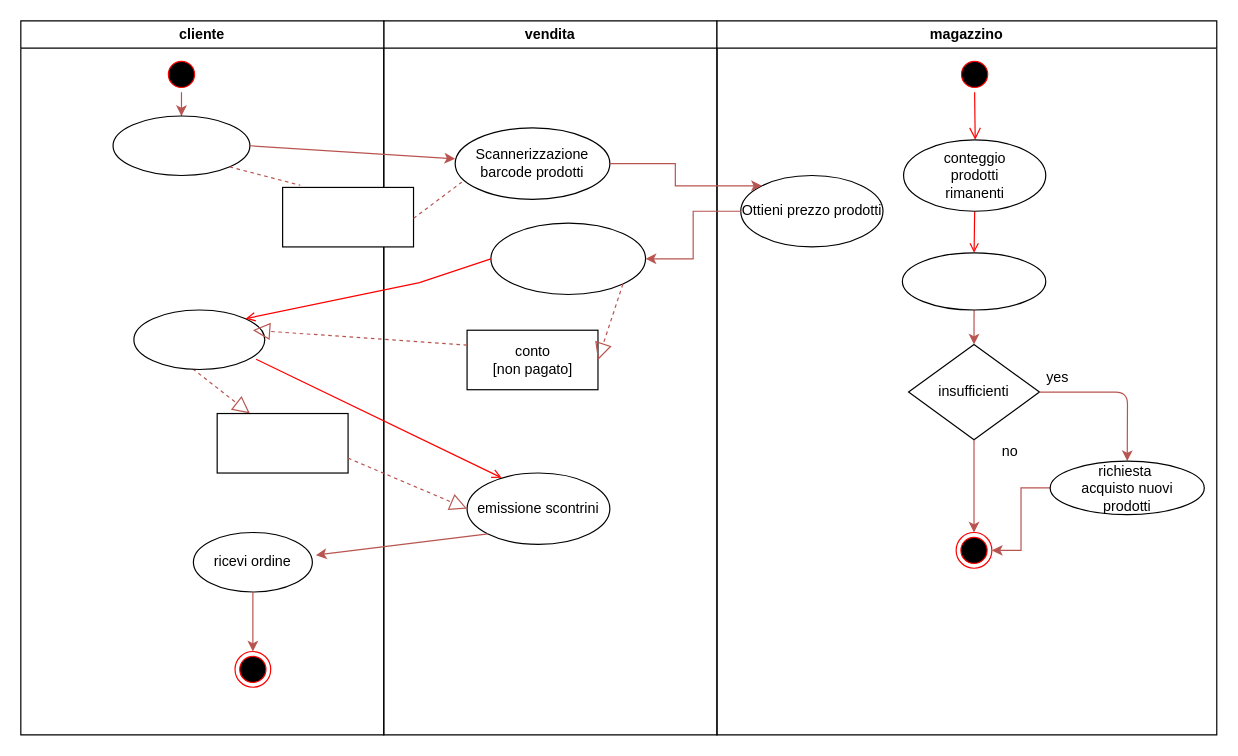
Image size: 1238x756. Some labels were removed from this diagram. Each missing label, with the centre of its shape:
aggiornamento prodotto: the point at 973,281
Calcola conto: the point at 568,258
conto [pagato]: the point at 282,442
paga conto: the point at 199,339
prodotti: the point at 347,216
seleziona prodotti: the point at 181,145
